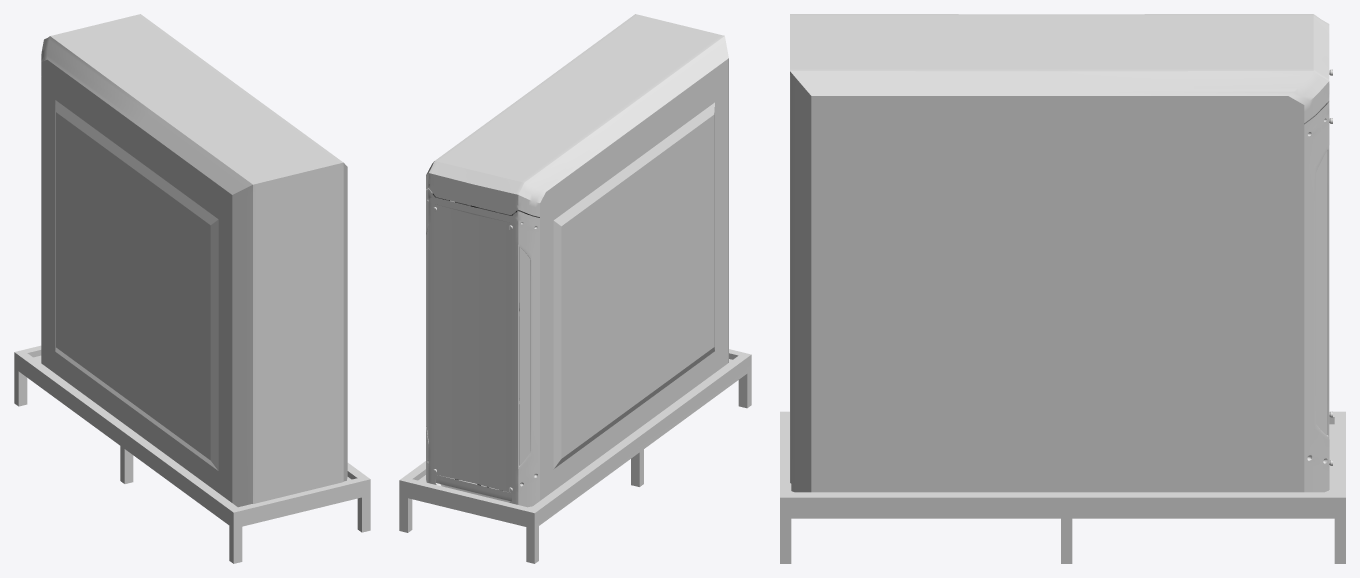
The model's file is tower.fbx.
3 renders of one model, left to right at view 1: azimuth 30°, elevation 25°; view 2: azimuth 150°, elevation 25°; view 3: azimuth 270°, elevation 25°, orthographic. The views are drawn at different scales.
Visible parts, largest first — view 1: PC.001; view 2: PC.001; view 3: PC.001.
Part boxes in pixels (x1,y1,x2,y2): PC.001: (14, 14, 370, 563); PC.001: (399, 14, 751, 563); PC.001: (780, 14, 1345, 563).
Bounding box in the file's own units: 21.14 × 54.7 × 58.65.
